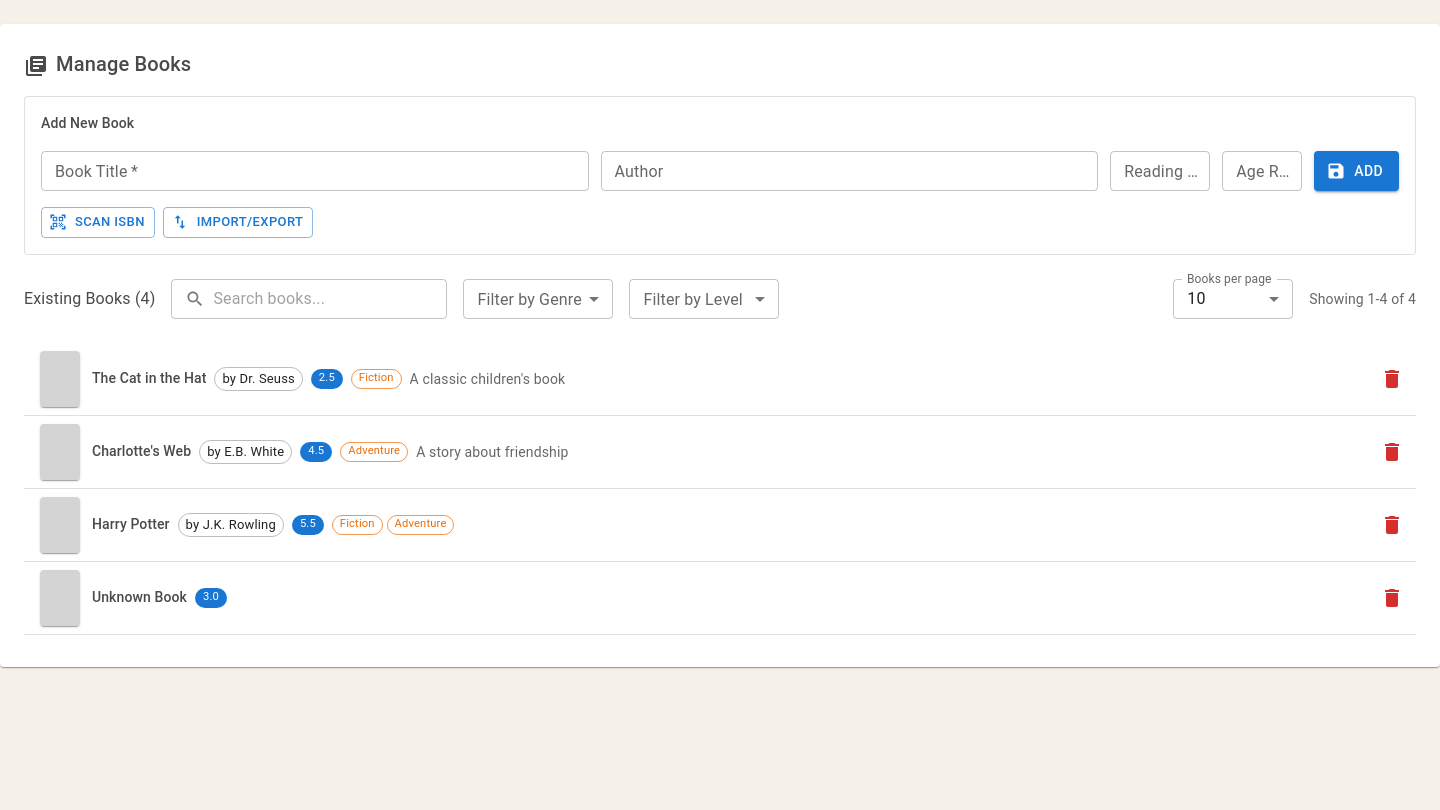
Test: BookManager Component › Search/Filter Functionality › should filter books by search query (title)
Type "Cat" into the field with placeholder "Search books...". click: (330, 299)
box: [213, 279, 447, 319]
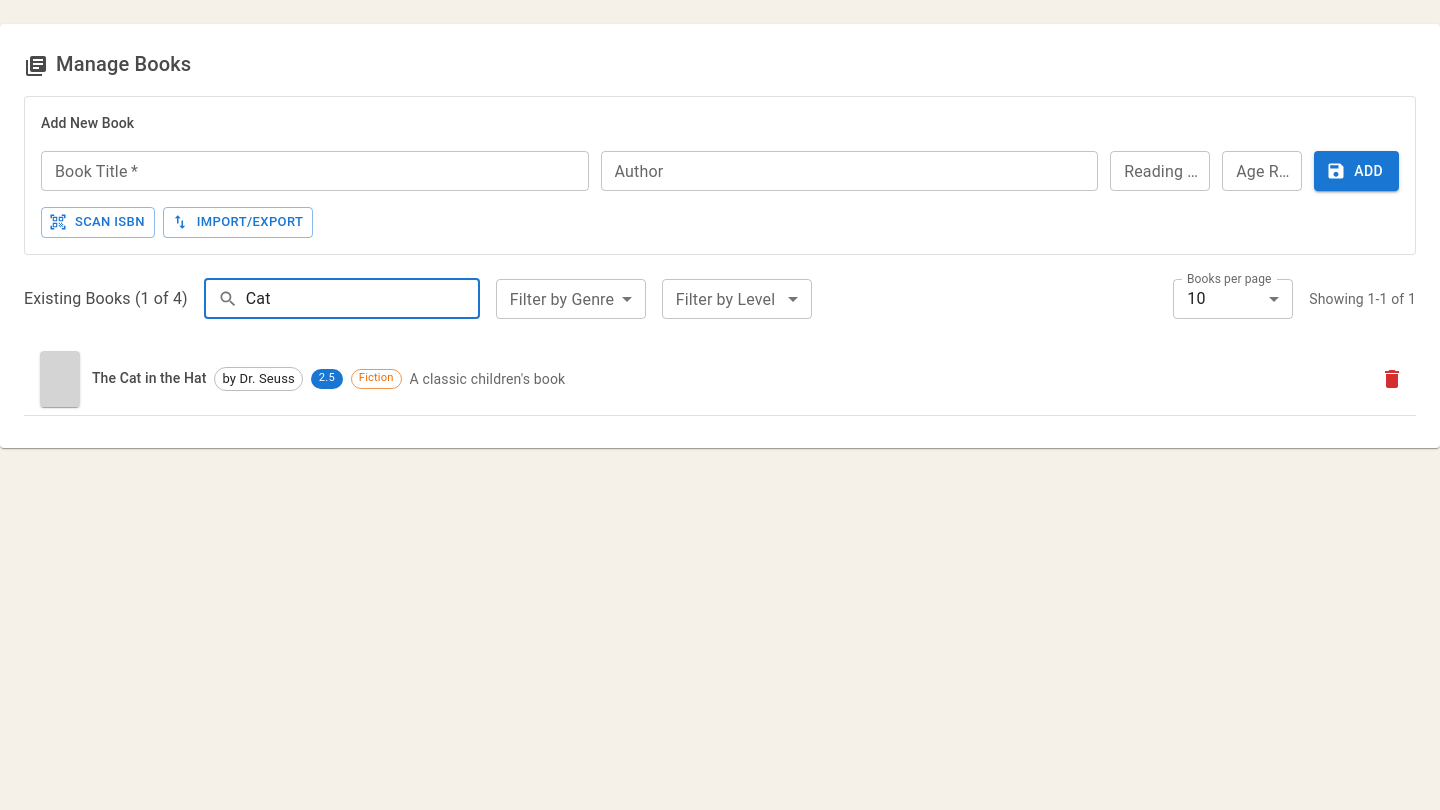
expect the heading "The Cat in the Hat" is shown: met, box [92, 368, 206, 390]
expect the heading "Charlotte's Web" is gone: met
expect the heading "Harry Potter" is gone: met
